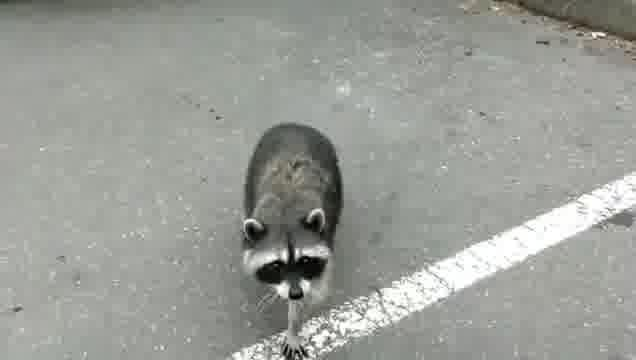raccoon: (240, 120, 347, 360)
